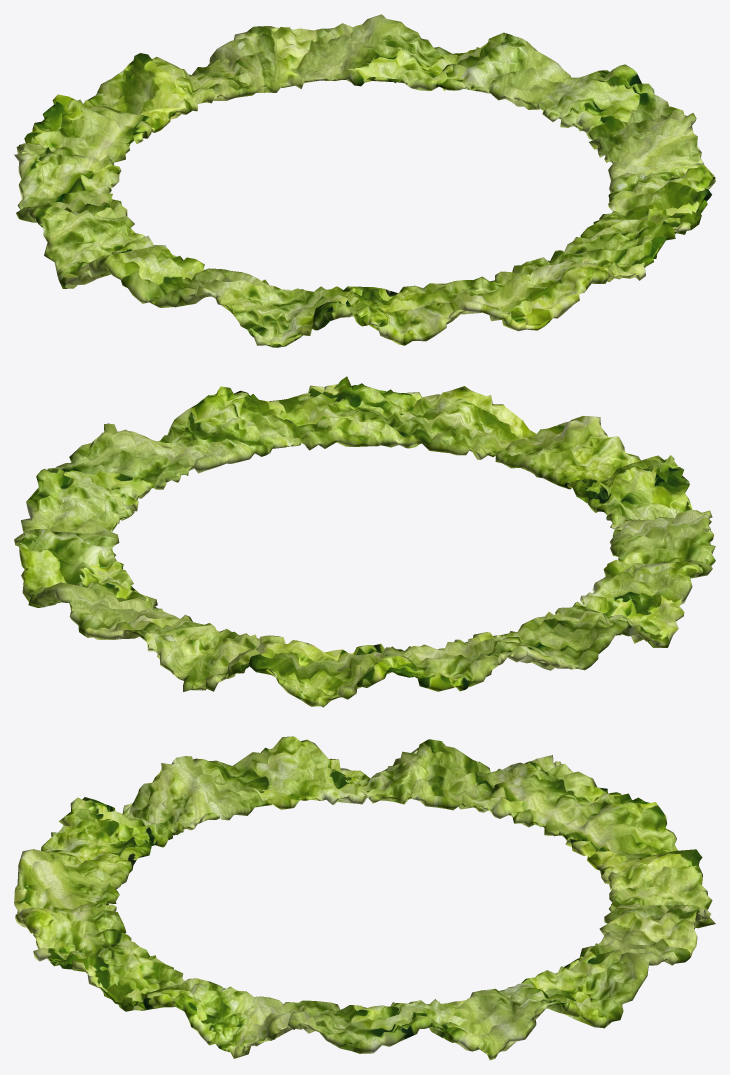
Rendered from salad.gltf.
The picture shows the model from 3 angles, top to bottom: view 1: azimuth 30°, elevation 25°; view 2: azimuth 150°, elevation 25°; view 3: azimuth 270°, elevation 25°; orthographic projection.
Visible parts, largest first — view 1: Cylinder.001; view 2: Cylinder.001; view 3: Cylinder.001.
Part boxes in pixels (left/top/right/bottom): Cylinder.001: left=14, top=14, right=715, bottom=347; Cylinder.001: left=14, top=376, right=715, bottom=707; Cylinder.001: left=14, top=736, right=715, bottom=1060.
Bounding box in the file's own units: 6.24 × 0.5507 × 6.22.
Materials: 1 (1 with a texture image).
